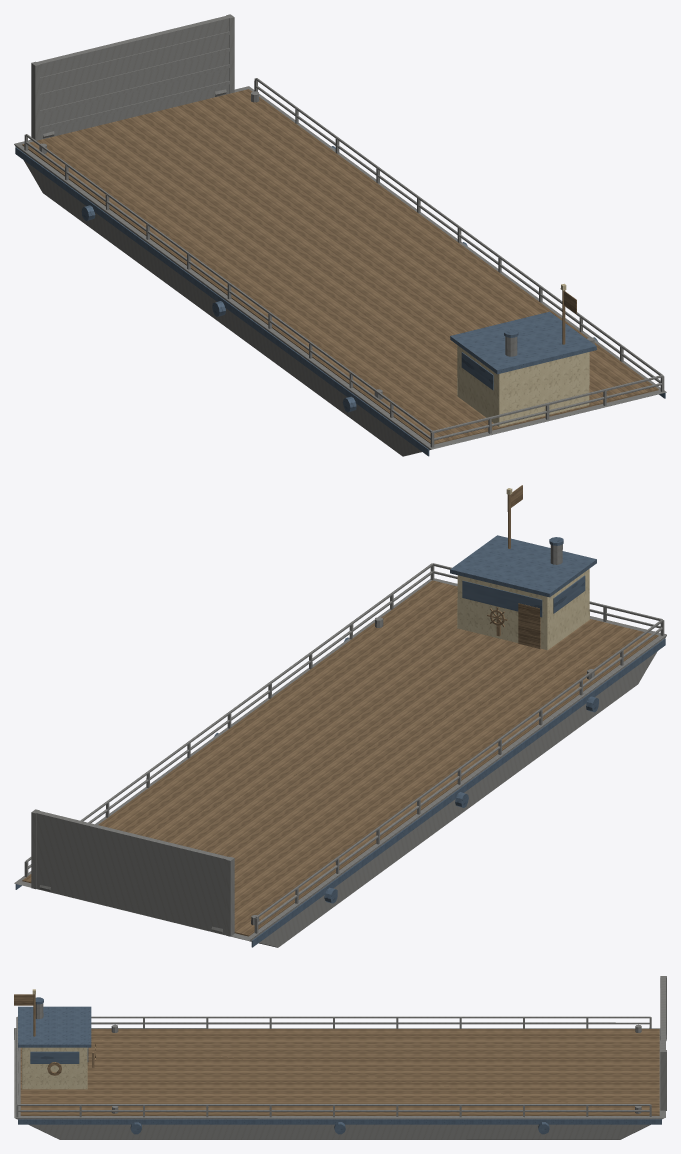
File: captains_barge.glb
3 views of the same model, one above another, from view 1: azimuth 30°, elevation 25°; view 2: azimuth 150°, elevation 25°; view 3: azimuth 270°, elevation 25° (orthographic). The views are drawn at different scales.
Parts seen in each view (by area): view 1: CaptainsBarge, Ramp; view 2: CaptainsBarge, Ramp; view 3: CaptainsBarge, Ramp.
Boxes of the visible parts, x1=… form: CaptainsBarge: x1=14, y1=78, x2=666, y2=456; Ramp: x1=31, y1=14, x2=234, y2=140; CaptainsBarge: x1=14, y1=485, x2=666, y2=947; Ramp: x1=31, y1=809, x2=234, y2=936; CaptainsBarge: x1=14, y1=989, x2=665, y2=1139; Ramp: x1=660, y1=976, x2=666, y2=1110.
Size of the model in its own units: 7.71 by 4.39 by 22.43.
Materials: 4 (4 with a texture image).
